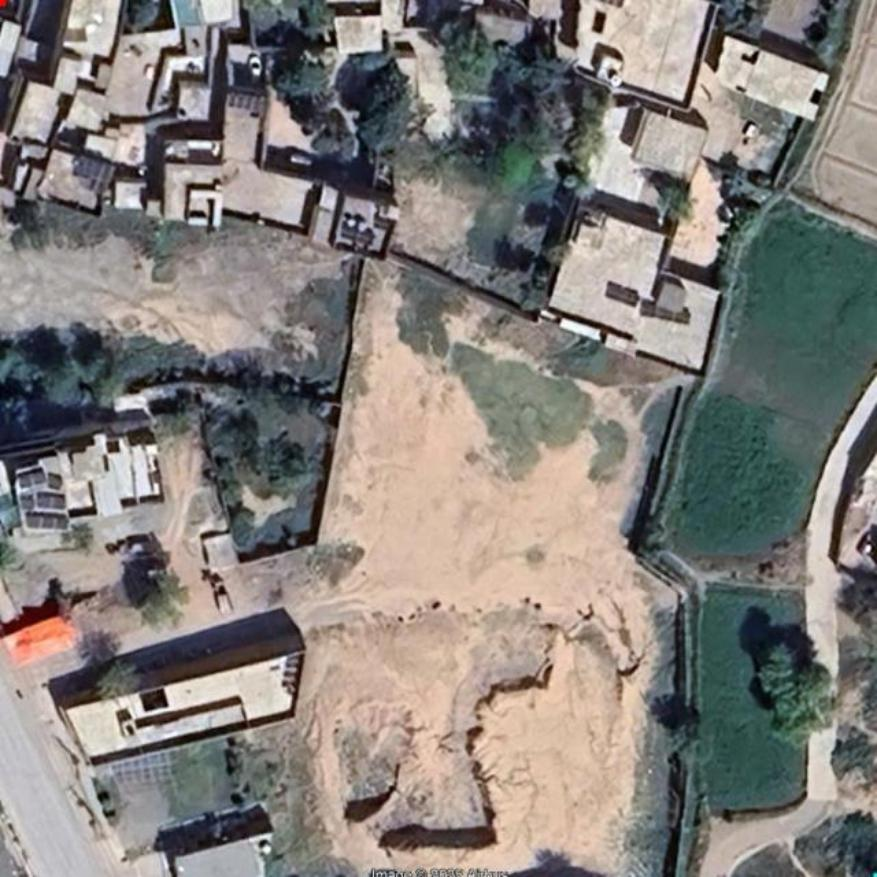Solarpanel: (69, 155, 116, 197), (26, 515, 69, 529), (20, 468, 48, 488), (36, 495, 66, 507)
